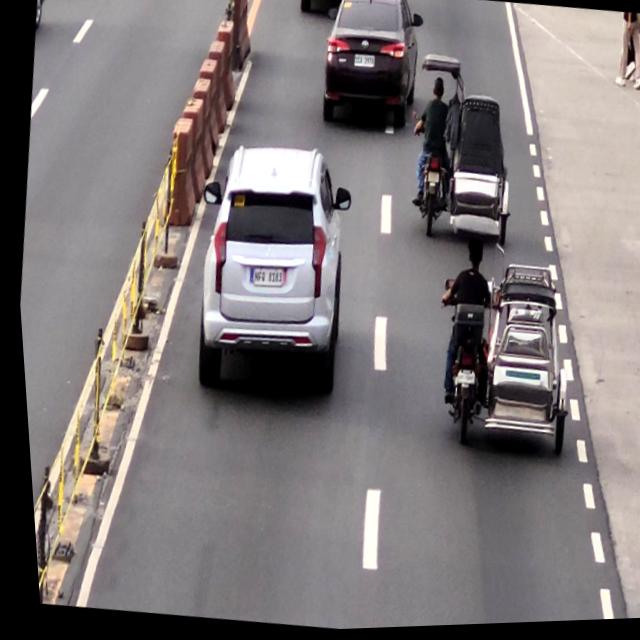Car: (180, 140, 357, 396), (313, 0, 429, 130)
License-Plate: (243, 266, 284, 295), (350, 52, 377, 74)
Tricycle: (415, 212, 586, 465), (405, 58, 521, 248)
